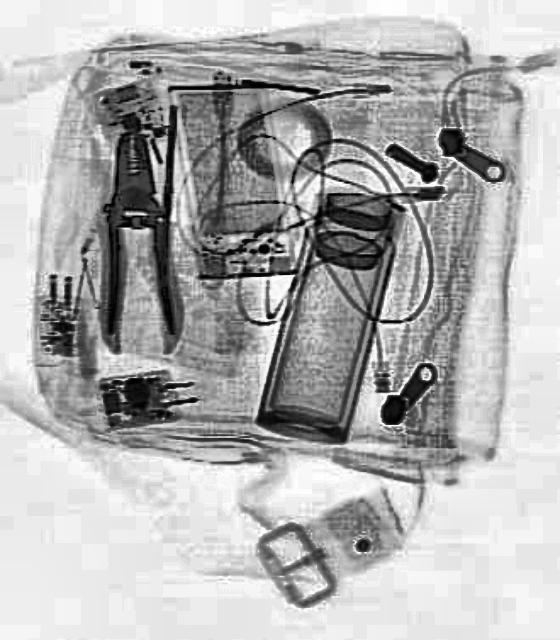Pliers: (98, 129, 172, 335)
